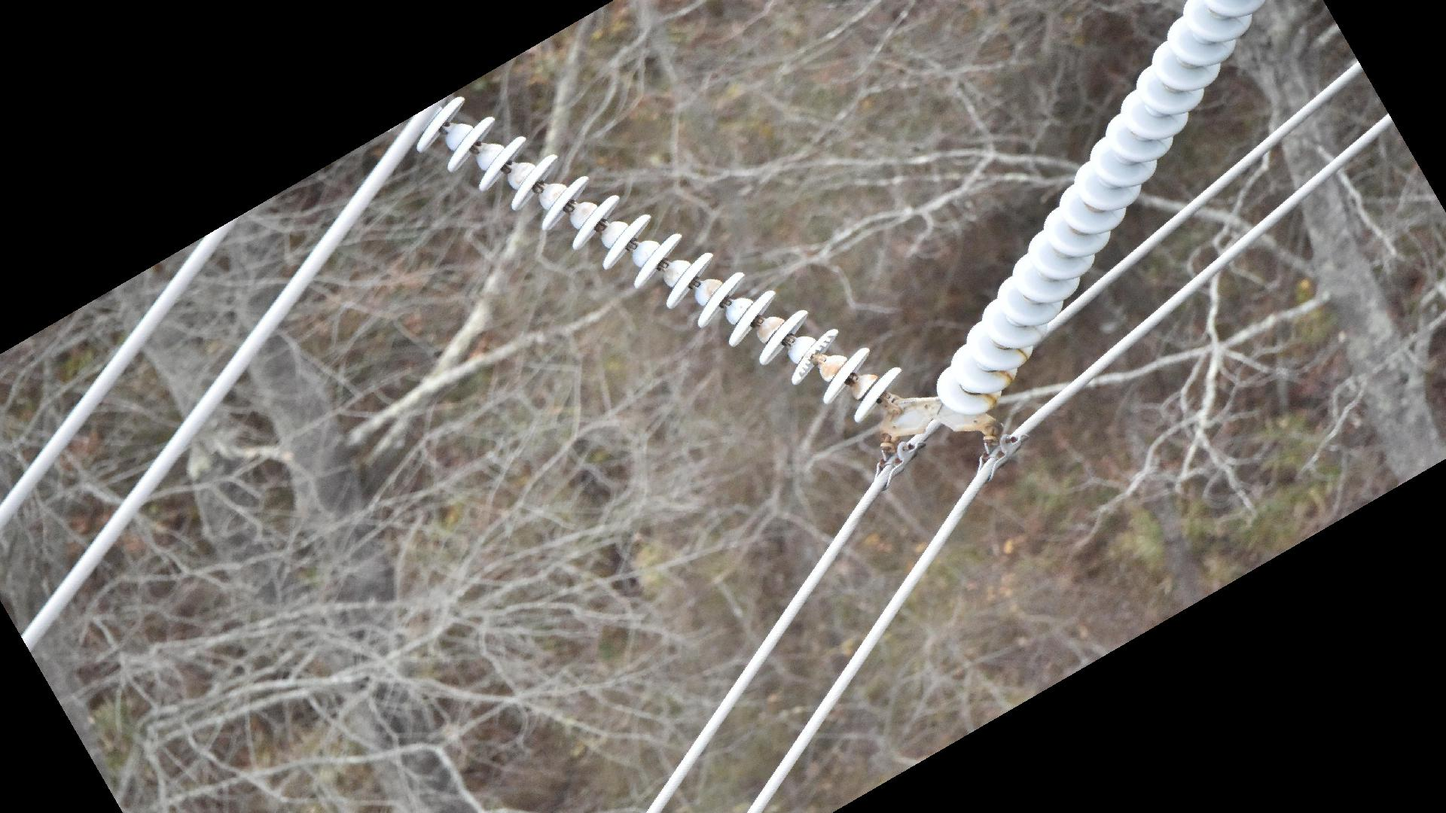insulator: (411, 87, 907, 426), (932, 1, 1264, 422)
insulator_breakage: (789, 325, 840, 384)
